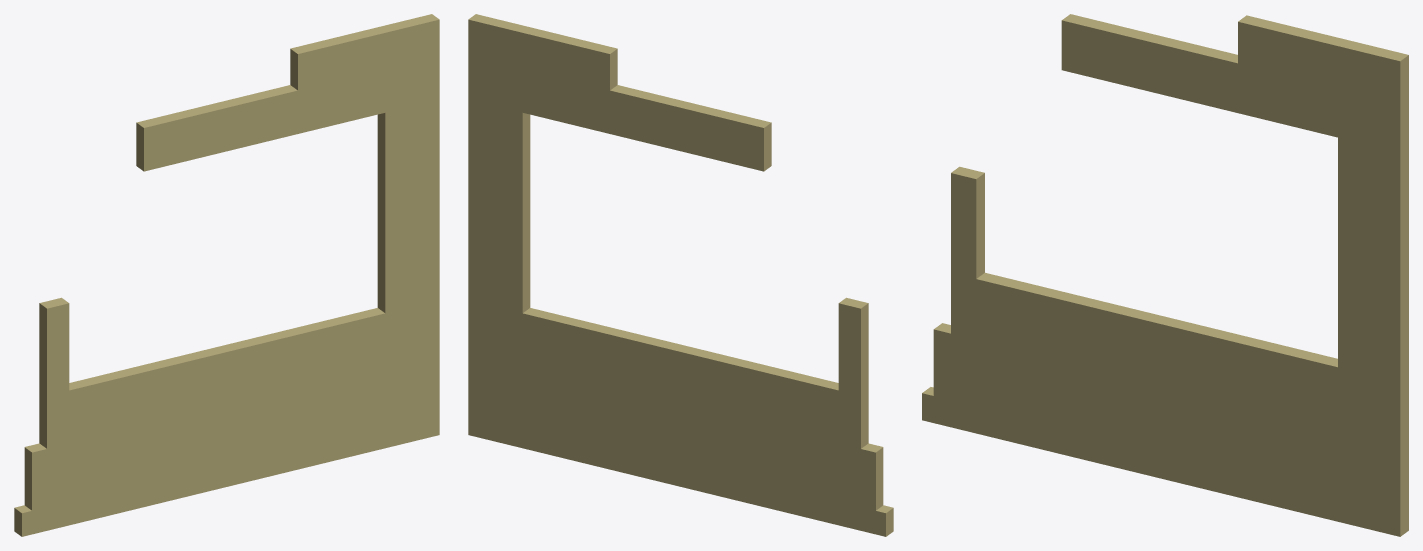
Rendered from ruin5.fbx.
3 views of the same model, side by side, from view 1: azimuth 30°, elevation 25°; view 2: azimuth 150°, elevation 25°; view 3: azimuth 330°, elevation 25° (orthographic). The views are drawn at different scales.
Visible parts, largest first — view 1: Boole_3; view 2: Boole_3; view 3: Boole_3.
Part boxes in pixels (<box>): Boole_3: <box>14,14,439,536</box>; Boole_3: <box>468,14,893,536</box>; Boole_3: <box>922,14,1408,536</box>.
Bounding box in the file's own units: 344 × 327 × 10.86.
